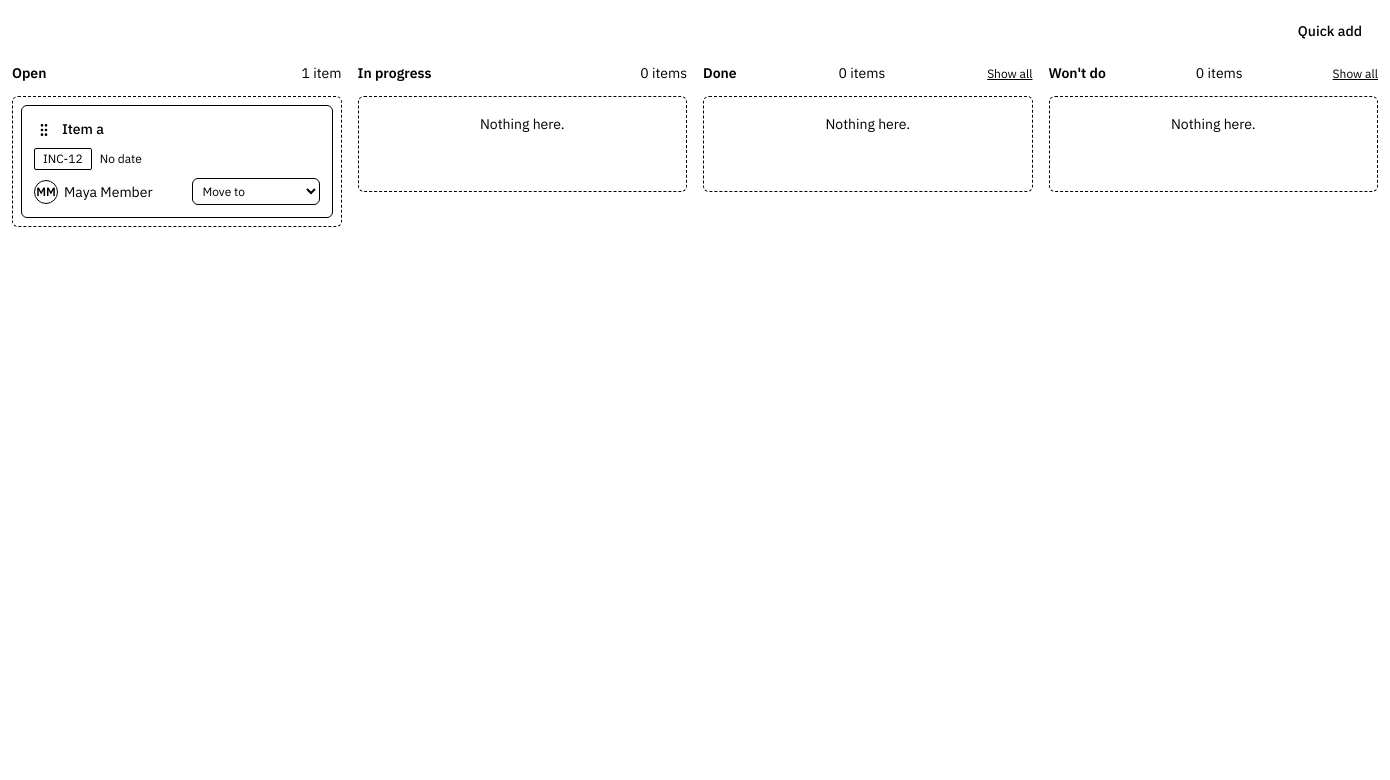
Test: moving with the menu › puts it back and says so when the server refuses
The image size is (1390, 780).
Step 1. Select "Move to In progress" in the dropdown → (256, 192), box [192, 178, 320, 205]
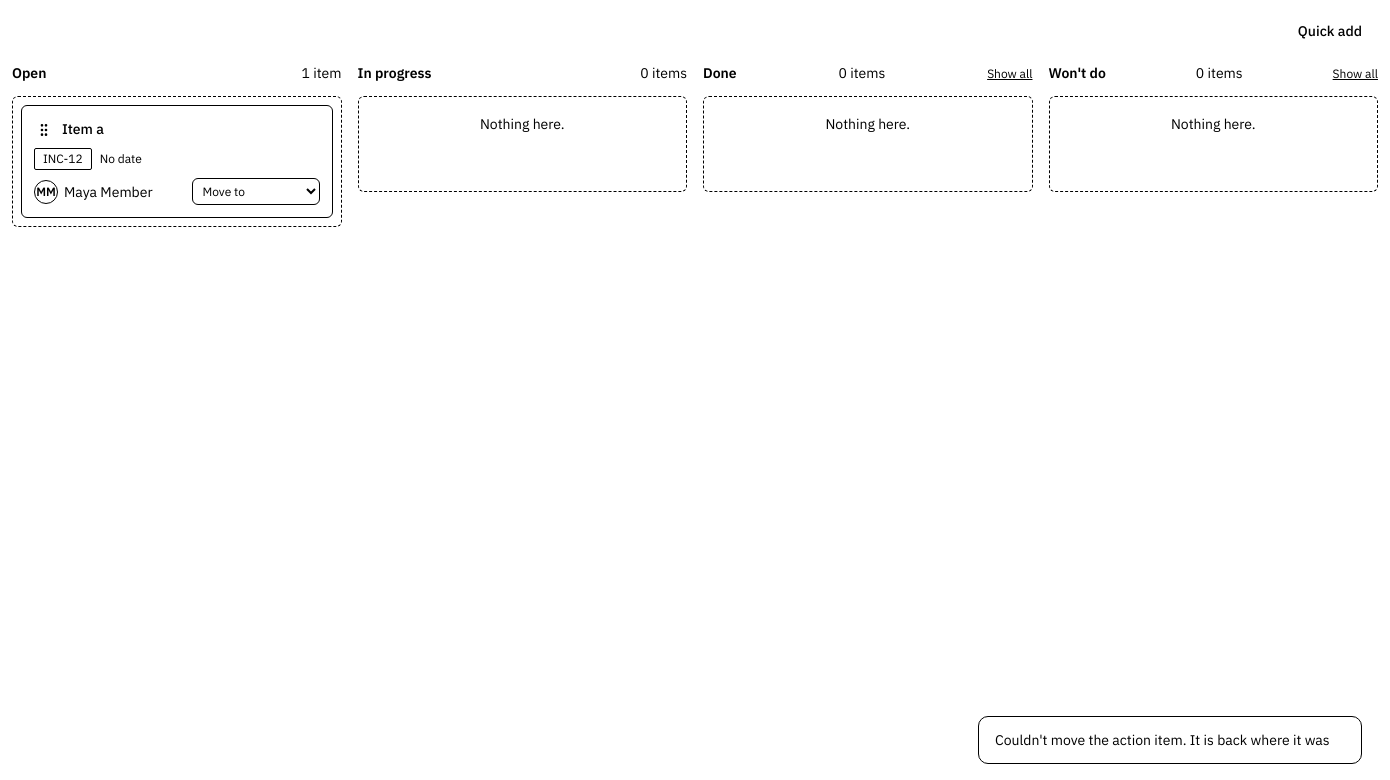
Now the message reads "Couldn't move the action item. It is back where it was", box [995, 731, 1330, 749]
